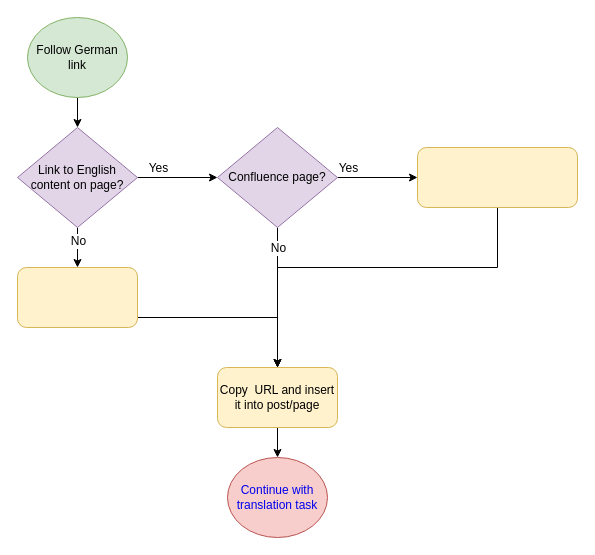
Image size: 595x555. Some labels were removed from this diagram. Each missing label, with the centre of its shape:
Find an equivalent post or page to link to: (77,297)
Look for short link: Press "K" or look for a short URL at bottom of page: (497,177)
